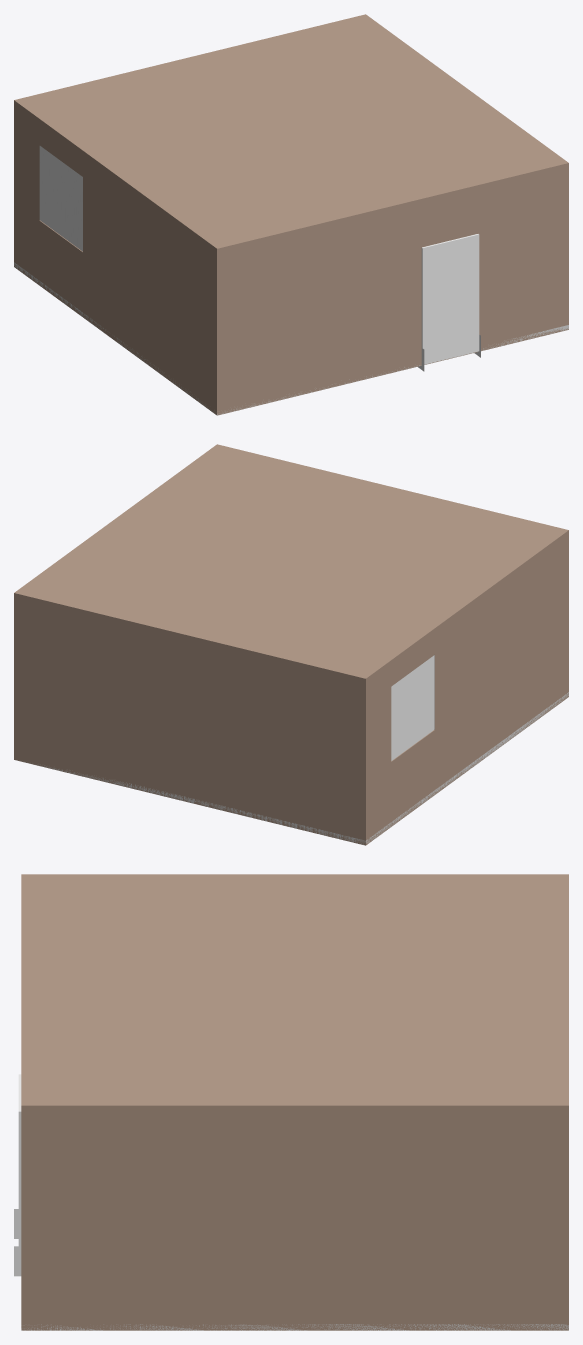
Rendered from laborator.fbx.
3 renders of one model, top to bottom at view 1: azimuth 30°, elevation 25°; view 2: azimuth 150°, elevation 25°; view 3: azimuth 270°, elevation 25°, orthographic. The views are drawn at different scales.
Visible parts, largest first — view 1: Cube, CTRL_Hole, CTRL_Hole.001, Cube.001; view 2: Cube, CTRL_Hole.001, Cube.001; view 3: Cube, Cube.001, CTRL_Hole.
Boxes of the visible parts, bbox=[...] form: Cube: bbox=[14, 14, 568, 415]; CTRL_Hole: bbox=[421, 234, 479, 364]; CTRL_Hole.001: bbox=[39, 146, 82, 251]; Cube.001: bbox=[14, 262, 568, 415]; Cube: bbox=[14, 444, 568, 845]; CTRL_Hole.001: bbox=[391, 655, 434, 760]; Cube.001: bbox=[16, 692, 568, 845]; Cube: bbox=[21, 874, 568, 1330]; Cube.001: bbox=[21, 1324, 568, 1330]; CTRL_Hole: bbox=[18, 1074, 21, 1268].
Size of the model in its own units: 662 by 307 by 671.
